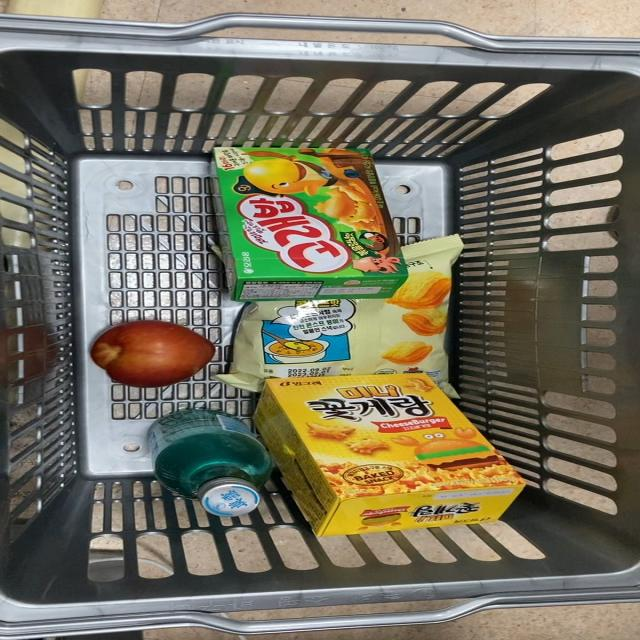ggobukchip: (226, 297, 491, 378)
goraebob: (188, 133, 407, 299)
jinro: (134, 408, 278, 524)
minicrab: (262, 378, 562, 536)
plum: (87, 309, 219, 392)
